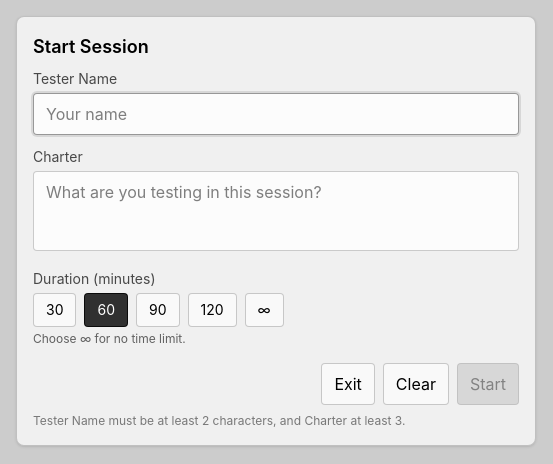
Test case: StartSessionModal › Start is disabled until charter is >= 3 chars
Type "Del" into the field with placeholder "Your name" at (276, 114), box [33, 93, 519, 135]
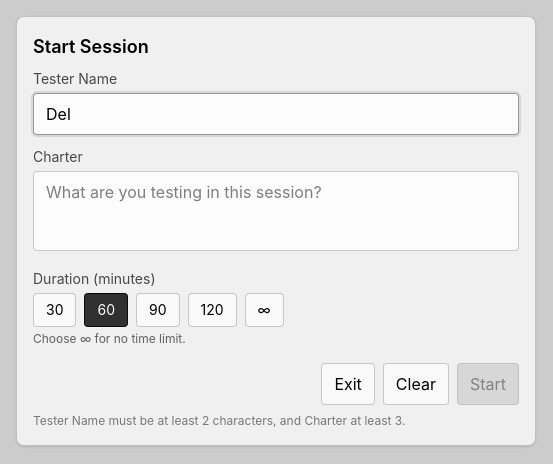
Expected: the button "Start" is disabled, [457, 363, 519, 405]
Type "ab" into the text box with placeholder "What are you testing in this session?" at (276, 211), box [33, 171, 519, 251]
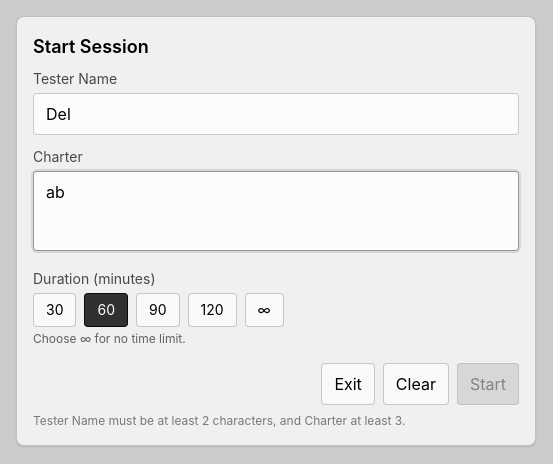
Expected: the button "Start" is disabled, [457, 363, 519, 405]
Type "c" into the text box with placeholder "What are you testing in this session?" at (276, 211), box [33, 171, 519, 251]
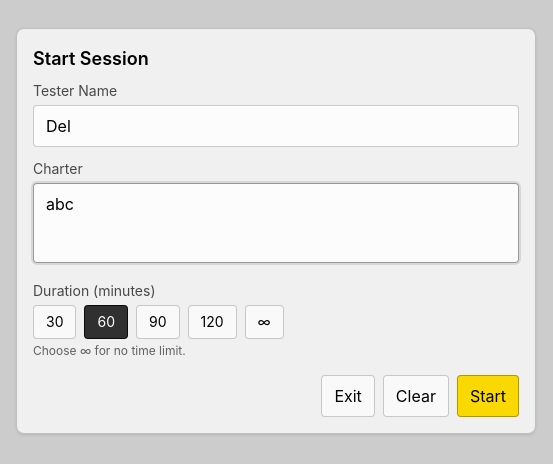
Now the button "Start" is enabled, box [457, 375, 519, 417]
